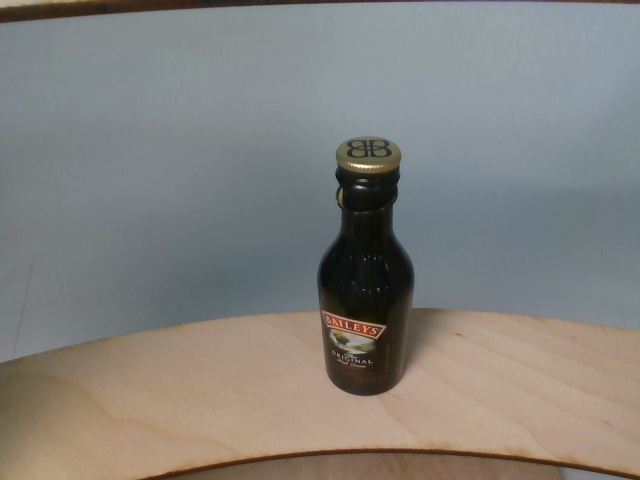coke: (319, 137, 415, 398)
